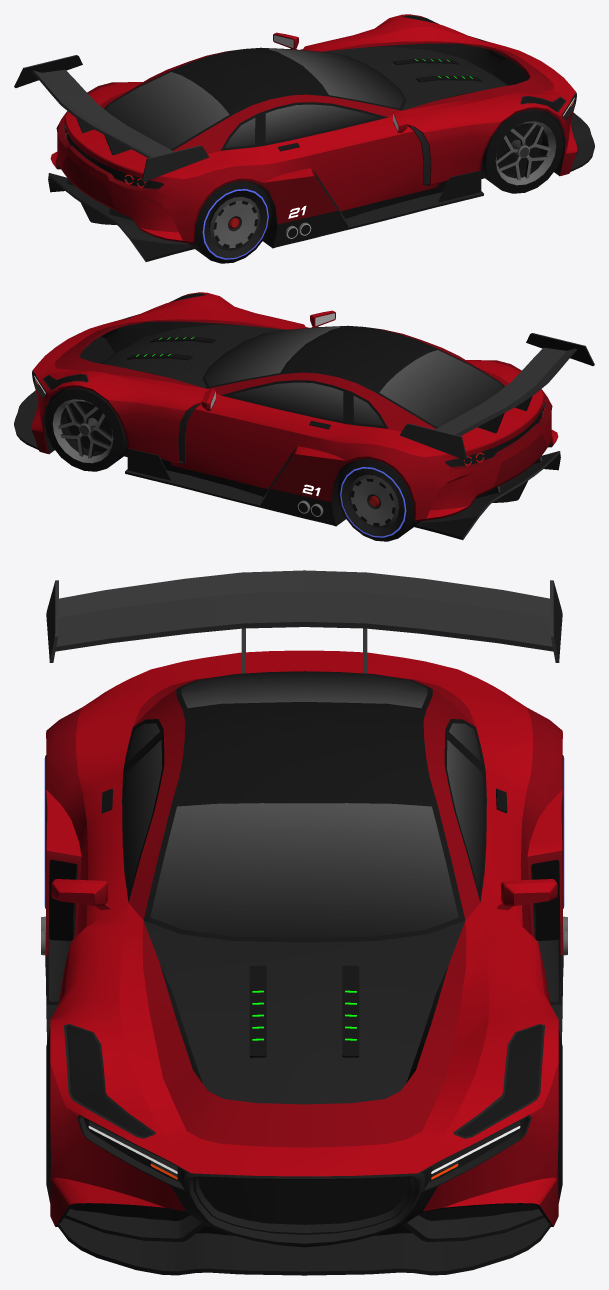
Rendered from RaceCar_040.glb.
3 views of the same model, one above another, from view 1: azimuth 30°, elevation 25°; view 2: azimuth 150°, elevation 25°; view 3: azimuth 270°, elevation 25° (orthographic). The views are drawn at different scales.
Parts seen in each view (by area): view 1: RaceCar_040, wheel_1_RaceCar_040_Wheel_1R, wheel_3_RaceCar_040_Wheel_2R; view 2: RaceCar_040, wheel_0_RaceCar_040_Wheel_1L, wheel_2_RaceCar_040_Wheel_2L; view 3: RaceCar_040.
Boxes of the visible parts, bbox=[...] form: RaceCar_040: bbox=[14, 14, 594, 261]; wheel_1_RaceCar_040_Wheel_1R: bbox=[481, 109, 563, 193]; wheel_3_RaceCar_040_Wheel_2R: bbox=[188, 180, 271, 263]; RaceCar_040: bbox=[14, 292, 594, 539]; wheel_0_RaceCar_040_Wheel_1L: bbox=[45, 387, 127, 471]; wheel_2_RaceCar_040_Wheel_2L: bbox=[337, 458, 420, 541]; RaceCar_040: bbox=[41, 570, 567, 1275].
Size of the model in its own units: 4.74 by 1.17 by 2.2.
4 materials, 4 textured.
